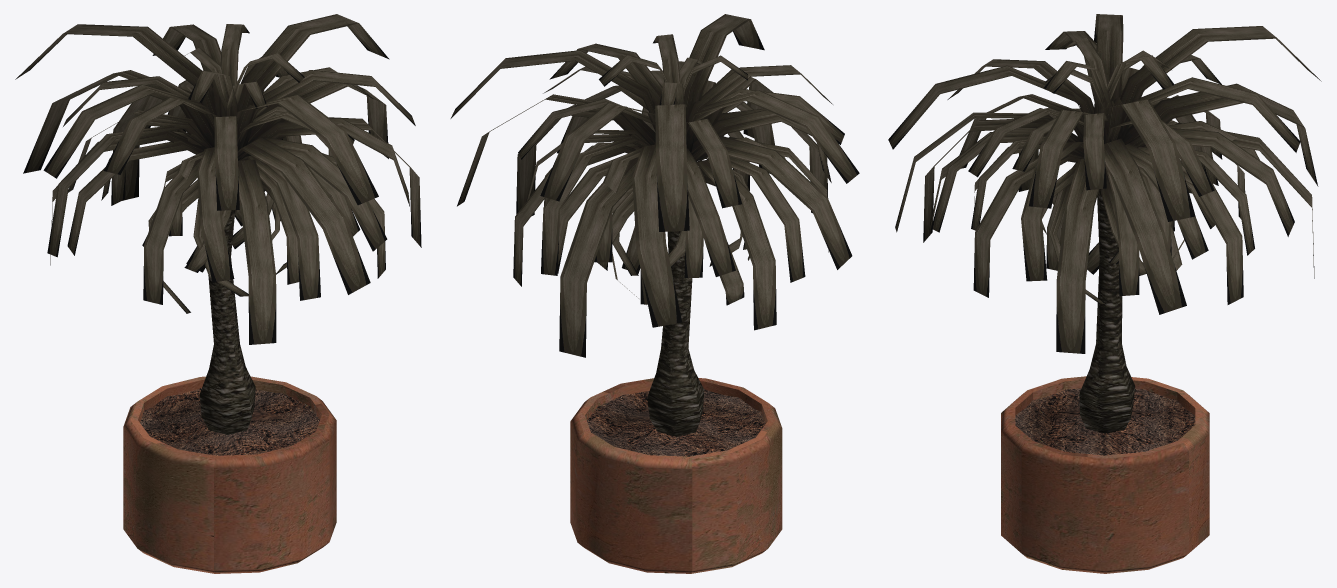
File: died plant.fbx
3 views of the same model, side by side, from view 1: azimuth 30°, elevation 25°; view 2: azimuth 150°, elevation 25°; view 3: azimuth 270°, elevation 25° (orthographic).
Visible parts, largest first — view 1: Palm, Cylinder_pot, Cylinder_cover; view 2: Palm, Cylinder_pot, Cylinder_cover; view 3: Palm, Cylinder_pot, Cylinder_cover.
Part boxes in pixels (box(x1,y1,x2,y2)): Palm: box(15, 14, 421, 434); Cylinder_pot: box(123, 376, 336, 573); Cylinder_cover: box(140, 388, 319, 455); Palm: box(450, 14, 859, 436); Cylinder_pot: box(570, 378, 782, 573); Cylinder_cover: box(587, 389, 765, 456); Palm: box(888, 14, 1321, 433); Cylinder_pot: box(1001, 376, 1209, 573); Cylinder_cover: box(1015, 388, 1195, 455).
Bounding box in the file's own units: 140 × 176 × 142.
Materials: 3 (3 with a texture image).
